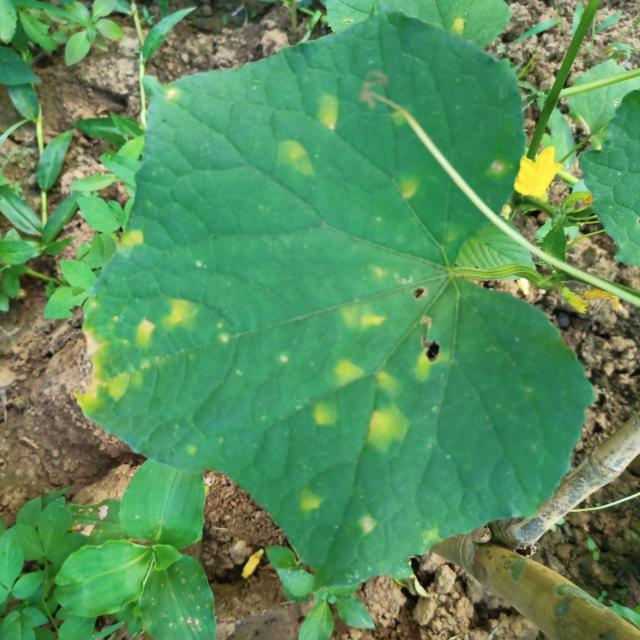disease_cucumber: (314, 262, 439, 463), (77, 292, 212, 430), (276, 88, 340, 185), (388, 166, 433, 222), (109, 221, 152, 260), (286, 486, 327, 524)
